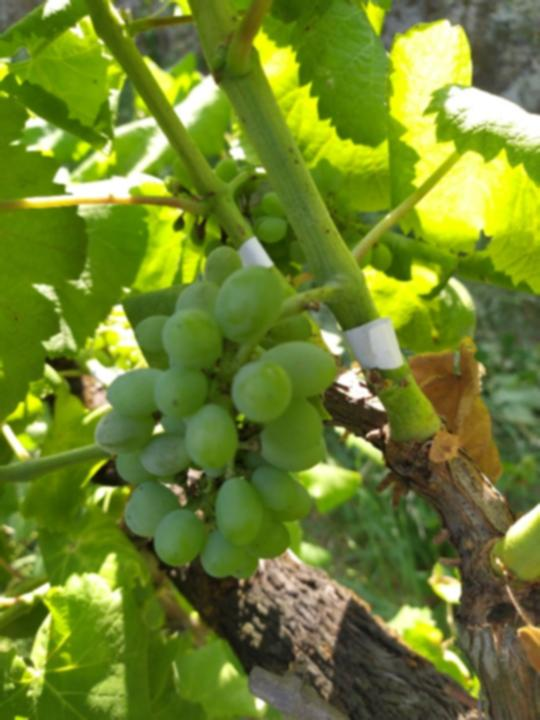grape: (92, 245, 343, 583)
